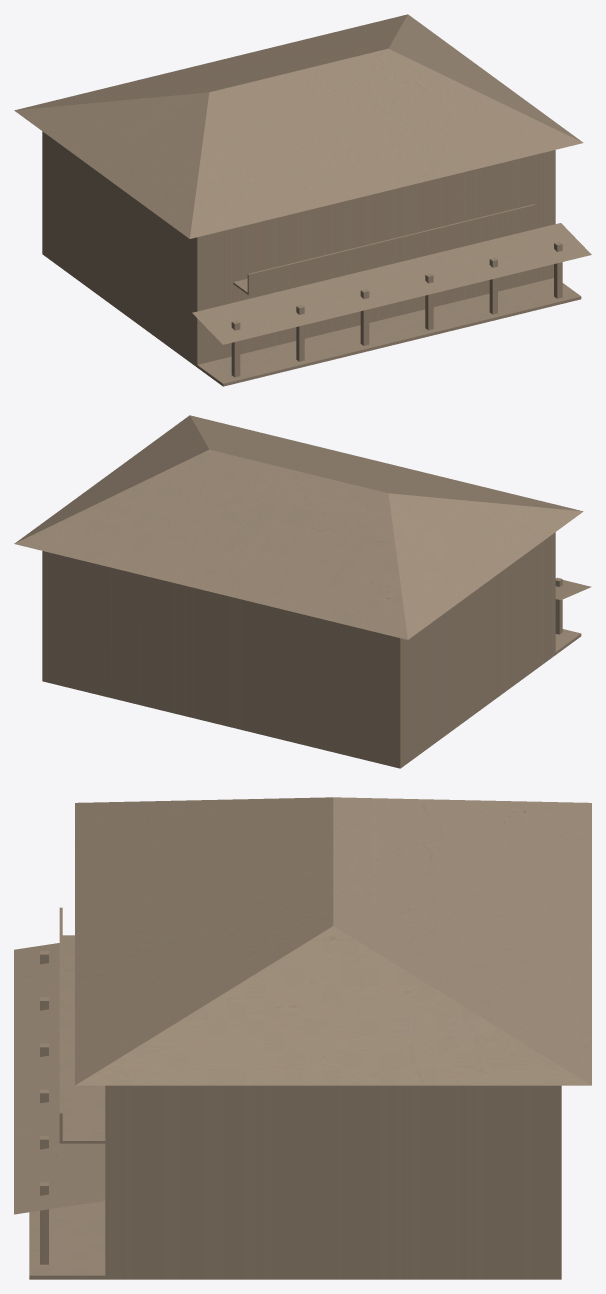
Rendered from plantation_house.glb.
3 renders of one model, top to bottom at view 1: azimuth 30°, elevation 25°; view 2: azimuth 150°, elevation 25°; view 3: azimuth 270°, elevation 25°, orthographic. The views are drawn at different scales.
Visible parts, largest first — view 1: PlantationHouse; view 2: PlantationHouse; view 3: PlantationHouse.
Boxes of the visible parts, left/top/right/bottom form: PlantationHouse: left=14, top=14, right=591, bottom=386; PlantationHouse: left=14, top=415, right=591, bottom=768; PlantationHouse: left=14, top=797, right=591, bottom=1279.
Bounding box in the file's own units: 22 × 10.5 × 19.
Materials: 1 (1 with a texture image).
